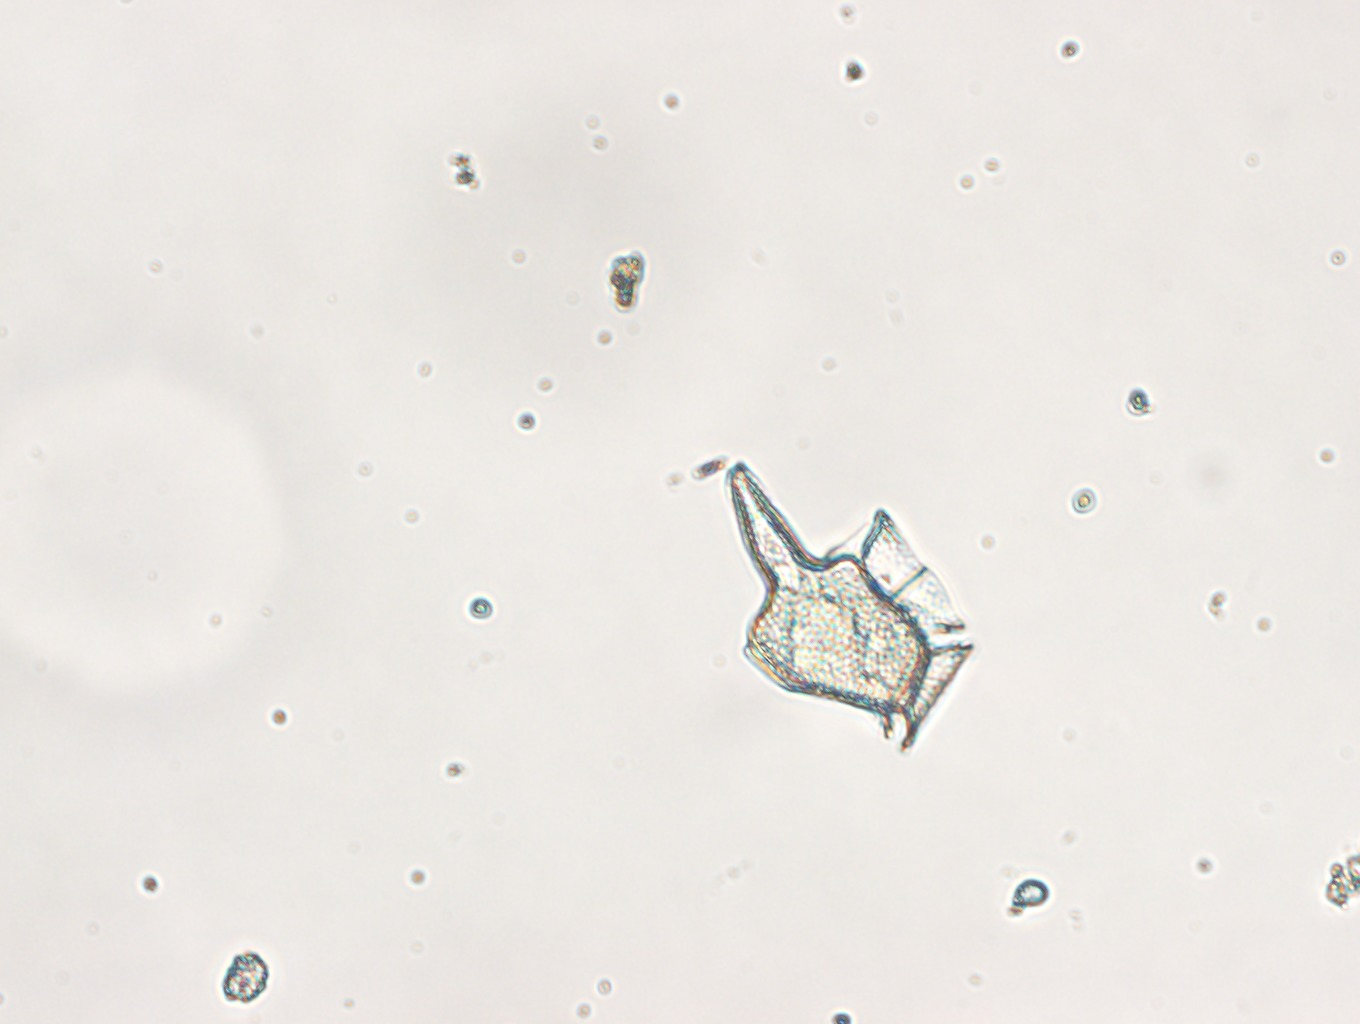dinophysis caudata: (726, 463, 973, 752)
